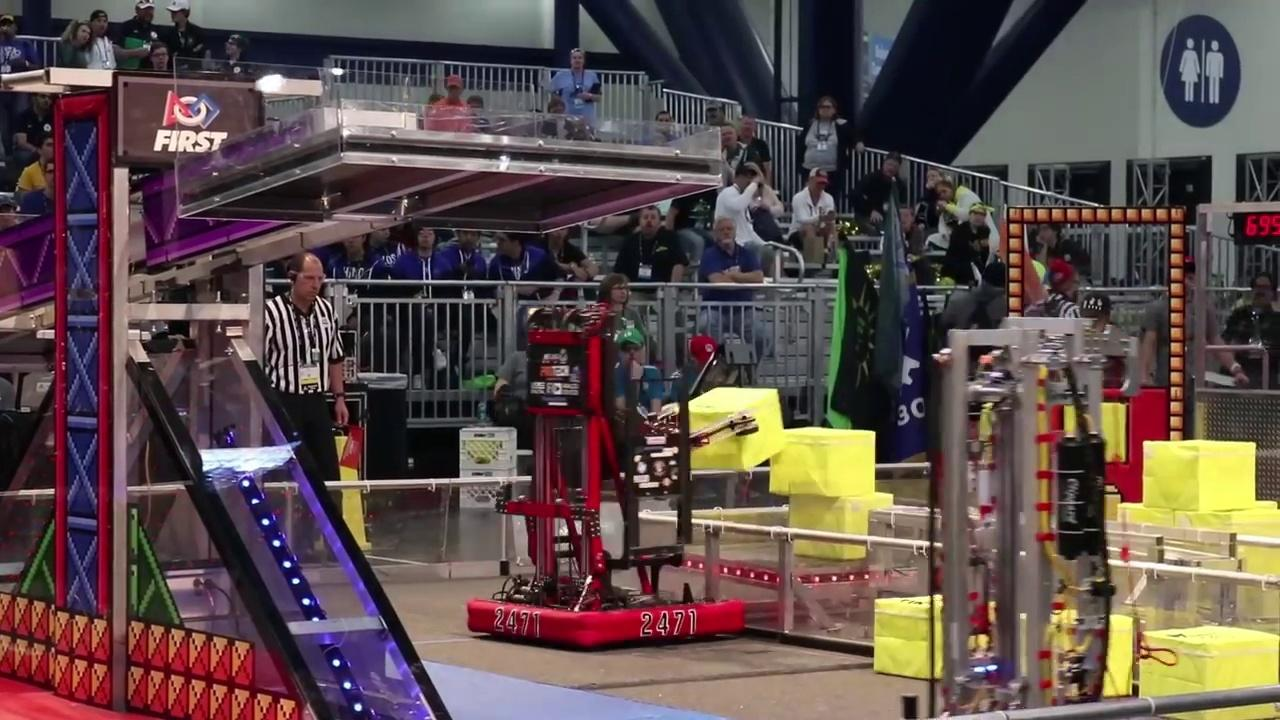robot: (459, 320, 751, 647)
